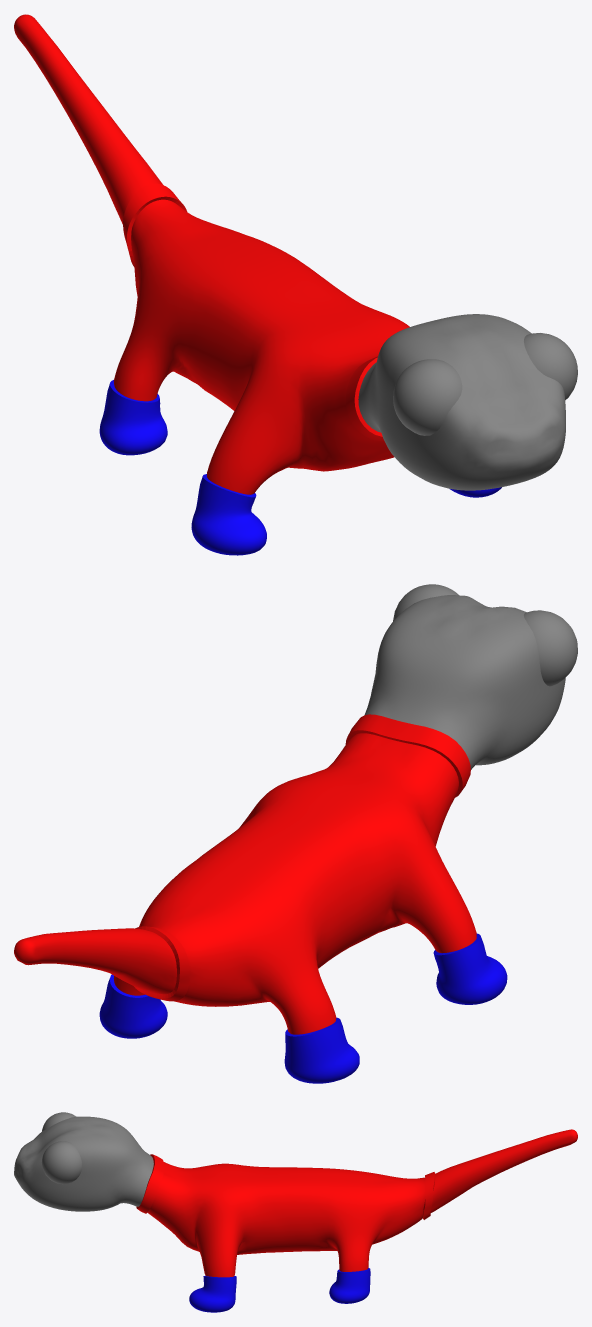
The model's file is SM_Gecko.fbx.
The picture shows the model from 3 angles, top to bottom: view 1: azimuth 30°, elevation 25°; view 2: azimuth 150°, elevation 25°; view 3: azimuth 270°, elevation 25°; orthographic projection. The views are drawn at different scales.
Visible parts, largest first — view 1: Box001; view 2: Box001; view 3: Box001.
Boxes of the visible parts, left/top/right/bottom form: Box001: left=14, top=14, right=577, bottom=555; Box001: left=14, top=584, right=577, bottom=1083; Box001: left=14, top=1112, right=577, bottom=1312.
Size of the model in its own units: 263 by 223 by 768.
